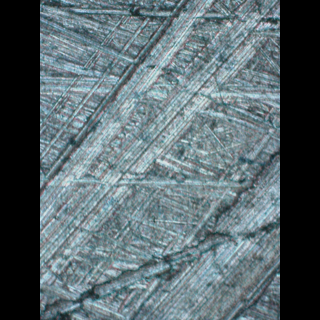d: (40, 0, 280, 291), (129, 140, 280, 318)
